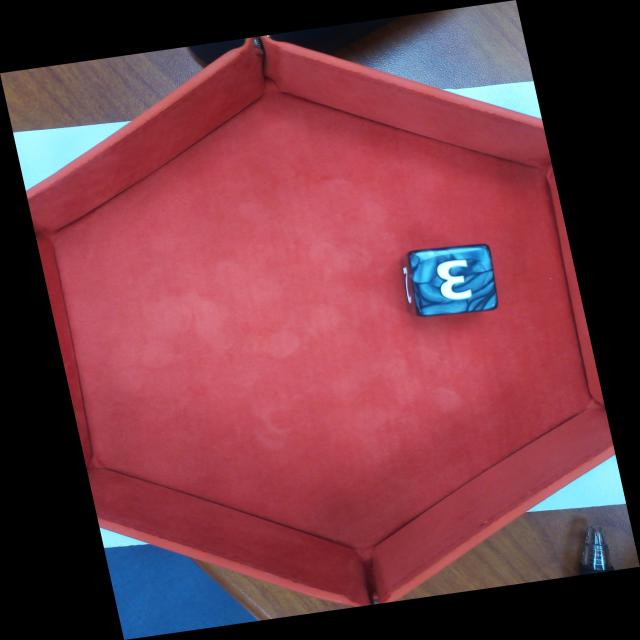dice: (405, 242, 499, 318)
